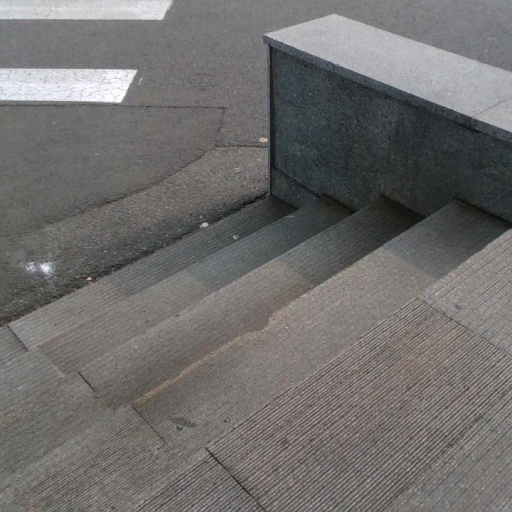Stairs: (0, 197, 512, 512)
